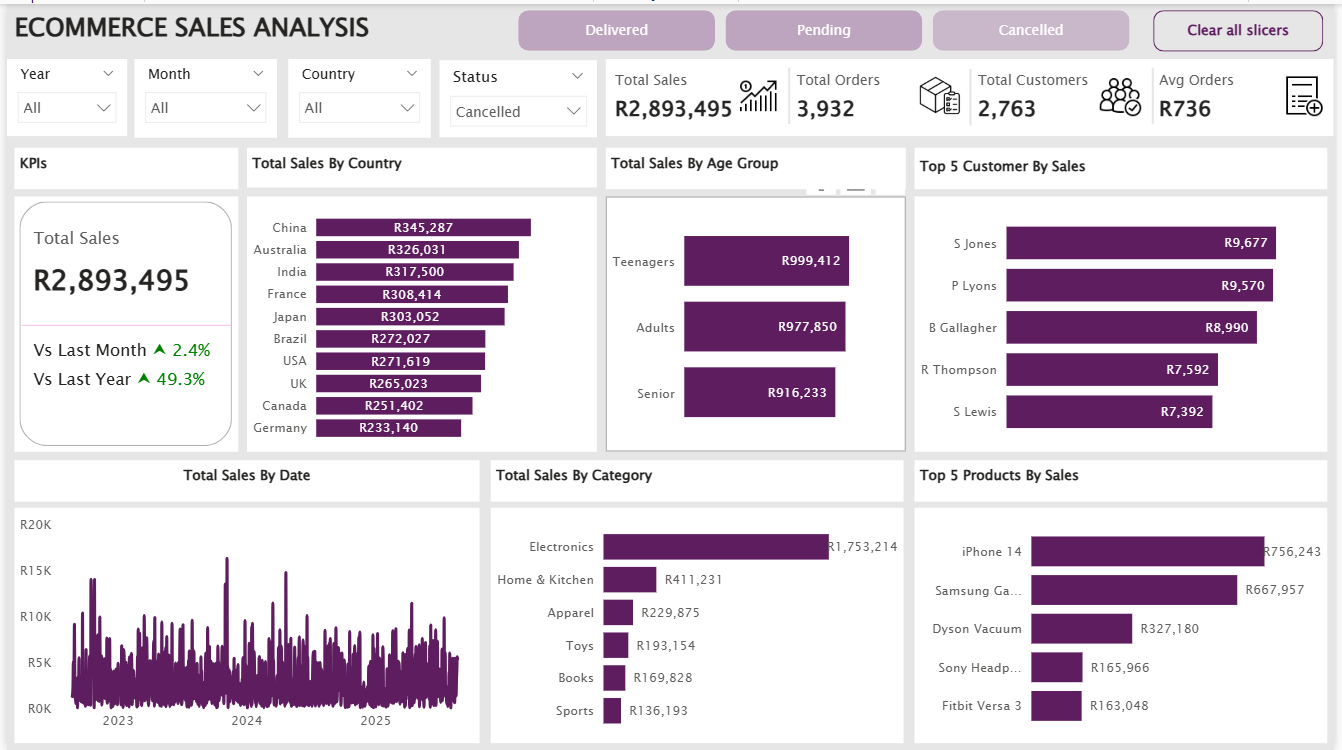

This screenshot's page, from the dashboard's own definition file:
{"tool":"powerbi","page":{"name":"Overview","canvas":[1280,720],"ordinal":0},"visuals":[{"type":"cardVisual","fields":{"Data":["My Measures.Total Sales","My Measures.Total Orders","My Measures.Total Customers","My Measures.Avg Order Values"]},"box":[577.9,53.1,702.1,74.8],"z":0,"group":"g1"},{"type":"barChart","fields":{"Category":["eCommerceData.country"],"Y":["My Measures.Total Sales"]},"box":[231.6,185.8,337.8,246.1],"z":0},{"type":"group","id":"g1","title":"Group 1","box":[577.9,53.1,702.1,74.8],"z":1000},{"type":"barChart","fields":{"Y":["My Measures.Total Sales"],"Category":["eCommerceData.category"]},"box":[466.9,486.2,398.1,226.8],"z":2000},{"type":"barChart","fields":{"Y":["My Measures.Total Sales"],"Category":["eCommerceData.product_name"]},"box":[875.9,486.2,398.1,226.8],"z":3000},{"type":"shape","box":[702.3,60.9,105.7,54.3],"z":3500,"group":"g1"},{"type":"shape","box":[1051.9,61.5,107.7,54.3],"z":4000,"group":"g1"},{"type":"barChart","fields":{"Y":["My Measures.Total Sales"],"Category":["eCommerceData.Full Name"]},"box":[875.9,185.8,398.1,246.1],"z":4000},{"type":"shape","box":[877.1,62.2,105.7,54.3],"z":4500,"group":"g1"},{"type":"lineChart","fields":{"Y":["My Measures.Total Sales"],"Category":["DateTable.Date"]},"box":[7.2,486.2,448.8,226.8],"z":5000},{"type":"slicer","fields":{"Values":["eCommerceData.country"]},"box":[271.4,53.1,137.5,76],"z":6000},{"type":"slicer","fields":{"Values":["DateTable.Year"]},"box":[0,53.1,115.8,74.8],"z":7000},{"type":"slicer","fields":{"Values":["DateTable.Month Name"]},"box":[123.1,53.1,137.5,76],"z":8000},{"type":"cardVisual","fields":{"Data":["My Measures.Total Sales"]},"box":[7.2,185.8,216,246.1],"z":9000},{"type":"textbox","box":[7.2,138.7,216,39.8],"z":10000},{"type":"textbox","box":[231.6,138.7,337.8,38.6],"z":11000},{"type":"textbox","box":[466.9,440.4,398.1,39.8],"z":12000},{"type":"textbox","box":[7.2,440.4,448.8,39.8],"z":13000},{"type":"textbox","box":[875.9,440.4,398.1,39.8],"z":14000},{"type":"textbox","box":[875.9,138.7,398.1,39.8],"z":15000},{"type":"clusteredBarChart","fields":{"Category":["eCommerceData.age_group"],"Y":["My Measures.Total Sales"]},"box":[577.9,185.8,289.5,246.1],"z":16000},{"type":"textbox","box":[577.9,138.7,289.5,39.8],"z":17000},{"type":"textbox","box":[7.2,0,435.5,54.3],"z":18000},{"type":"slicer","fields":{"Values":["eCommerceData.Group Status"]},"box":[417.4,54.3,152,74.8],"z":19000},{"type":"actionButton","box":[1106.3,6,164.1,39.8],"z":20000},{"type":"bookmarkNavigator","box":[493.4,6,591.2,39.8],"z":21000}]}

Visuals, with their boxes in screenshot pixels (x1, y1, x2, y2), scaled from the page's 1280x720 canvas onto the 1342x750 screenshot:
cardVisual - My Measures.Total Sales x My Measures.Total Orders: crop(606, 55, 1341, 133)
barChart - eCommerceData.country x My Measures.Total Sales: crop(243, 194, 597, 450)
"Group 1" group: crop(606, 55, 1341, 133)
barChart - My Measures.Total Sales x eCommerceData.category: crop(490, 506, 907, 743)
barChart - My Measures.Total Sales x eCommerceData.product_name: crop(918, 506, 1336, 743)
shape: crop(736, 63, 847, 120)
shape: crop(1103, 64, 1216, 121)
barChart - My Measures.Total Sales x eCommerceData.Full Name: crop(918, 194, 1336, 450)
shape: crop(920, 65, 1030, 121)
lineChart - My Measures.Total Sales x DateTable.Date: crop(8, 506, 478, 743)
slicer - eCommerceData.country: crop(285, 55, 429, 134)
slicer - DateTable.Year: crop(0, 55, 121, 133)
slicer - DateTable.Month Name: crop(129, 55, 273, 134)
cardVisual - My Measures.Total Sales: crop(8, 194, 234, 450)
textbox: crop(8, 144, 234, 186)
textbox: crop(243, 144, 597, 185)
textbox: crop(490, 459, 907, 500)
textbox: crop(8, 459, 478, 500)
textbox: crop(918, 459, 1336, 500)
textbox: crop(918, 144, 1336, 186)
clusteredBarChart - eCommerceData.age_group x My Measures.Total Sales: crop(606, 194, 909, 450)
textbox: crop(606, 144, 909, 186)
textbox: crop(8, 0, 464, 57)
slicer - eCommerceData.Group Status: crop(438, 57, 597, 134)
actionButton: crop(1160, 6, 1332, 48)
bookmarkNavigator: crop(517, 6, 1137, 48)
